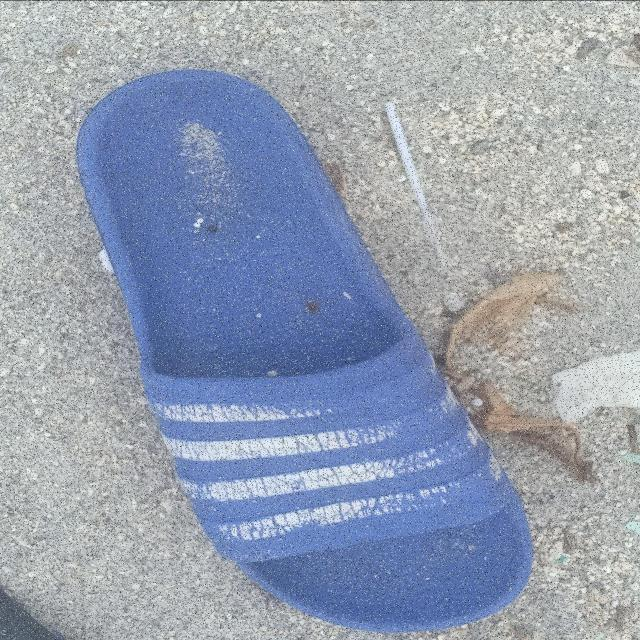plastic_waste: (387, 102, 447, 269)
rubber_waste: (76, 69, 534, 632)
